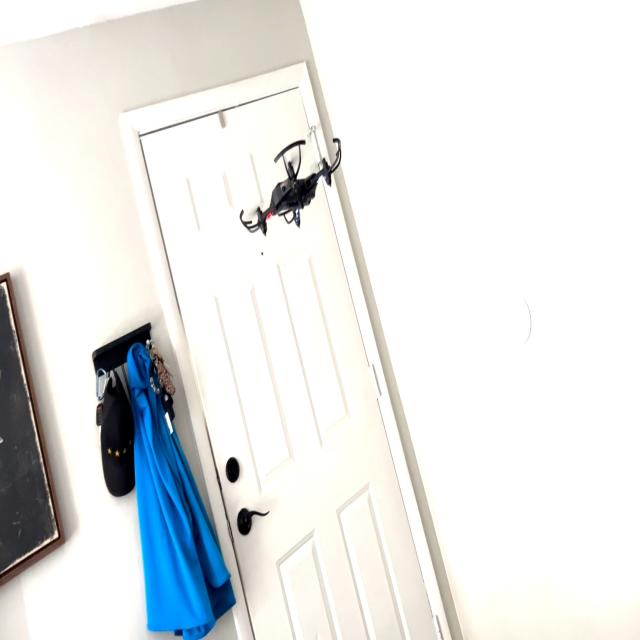drone: (235, 130, 344, 244)
